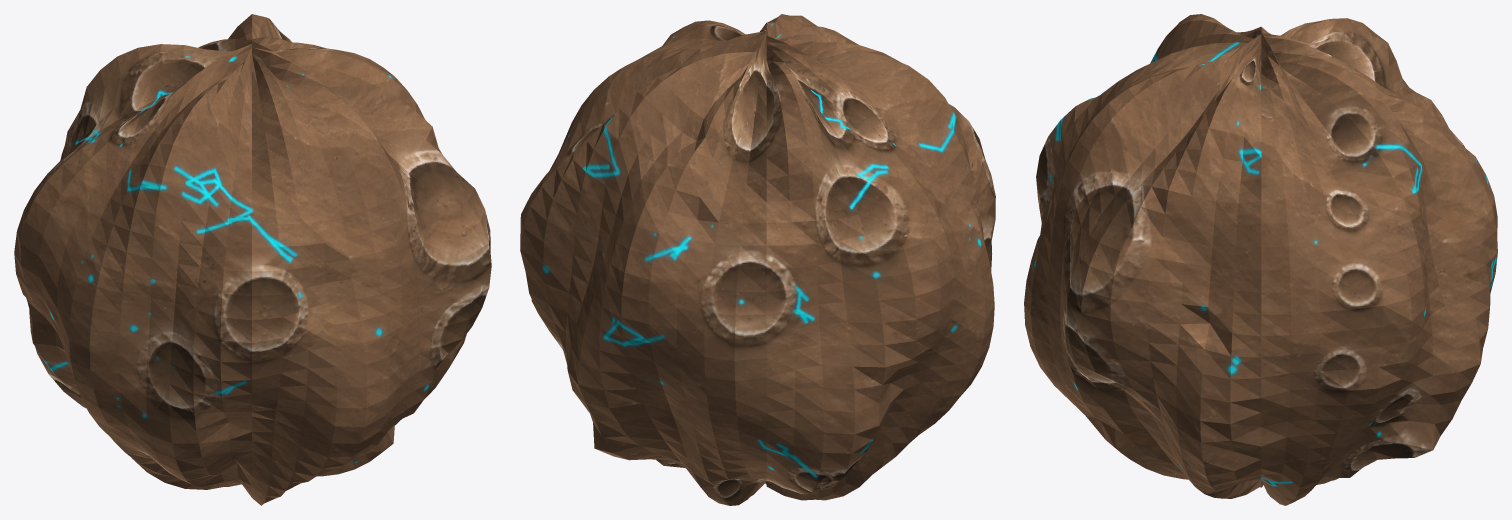
Rendered from asteroide_medio.obj.
3 renders of one model, left to right at view 1: azimuth 30°, elevation 25°; view 2: azimuth 150°, elevation 25°; view 3: azimuth 270°, elevation 25°, orthographic. The views are drawn at different scales.
Visible parts, largest first — view 1: Asteroide_medio; view 2: Asteroide_medio; view 3: Asteroide_medio.
Boxes of the visible parts, x1=… form: Asteroide_medio: x1=14, y1=14, x2=491, y2=505; Asteroide_medio: x1=520, y1=14, x2=995, y2=505; Asteroide_medio: x1=1024, y1=14, x2=1497, y2=505.
Bounding box in the file's own units: 2.05 × 2.19 × 2.05.
Materials: 1 (1 with a texture image).
